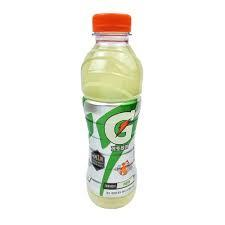gatorade_lemon: (80, 11, 145, 210)
